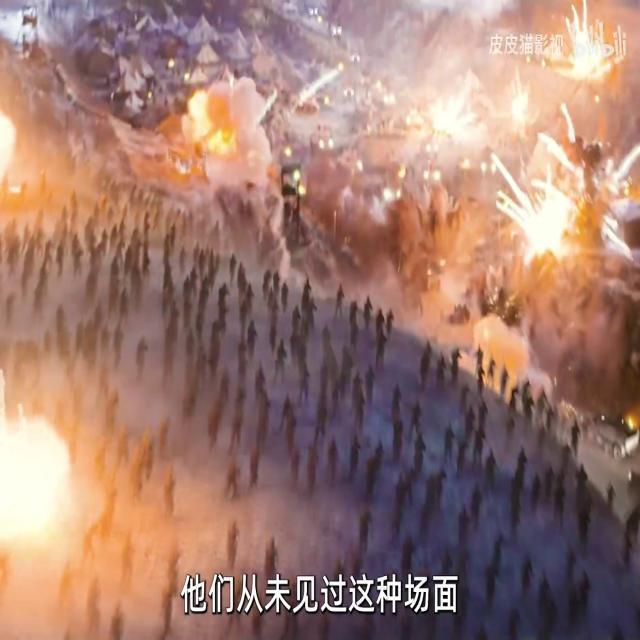fire: (434, 5, 638, 278)
